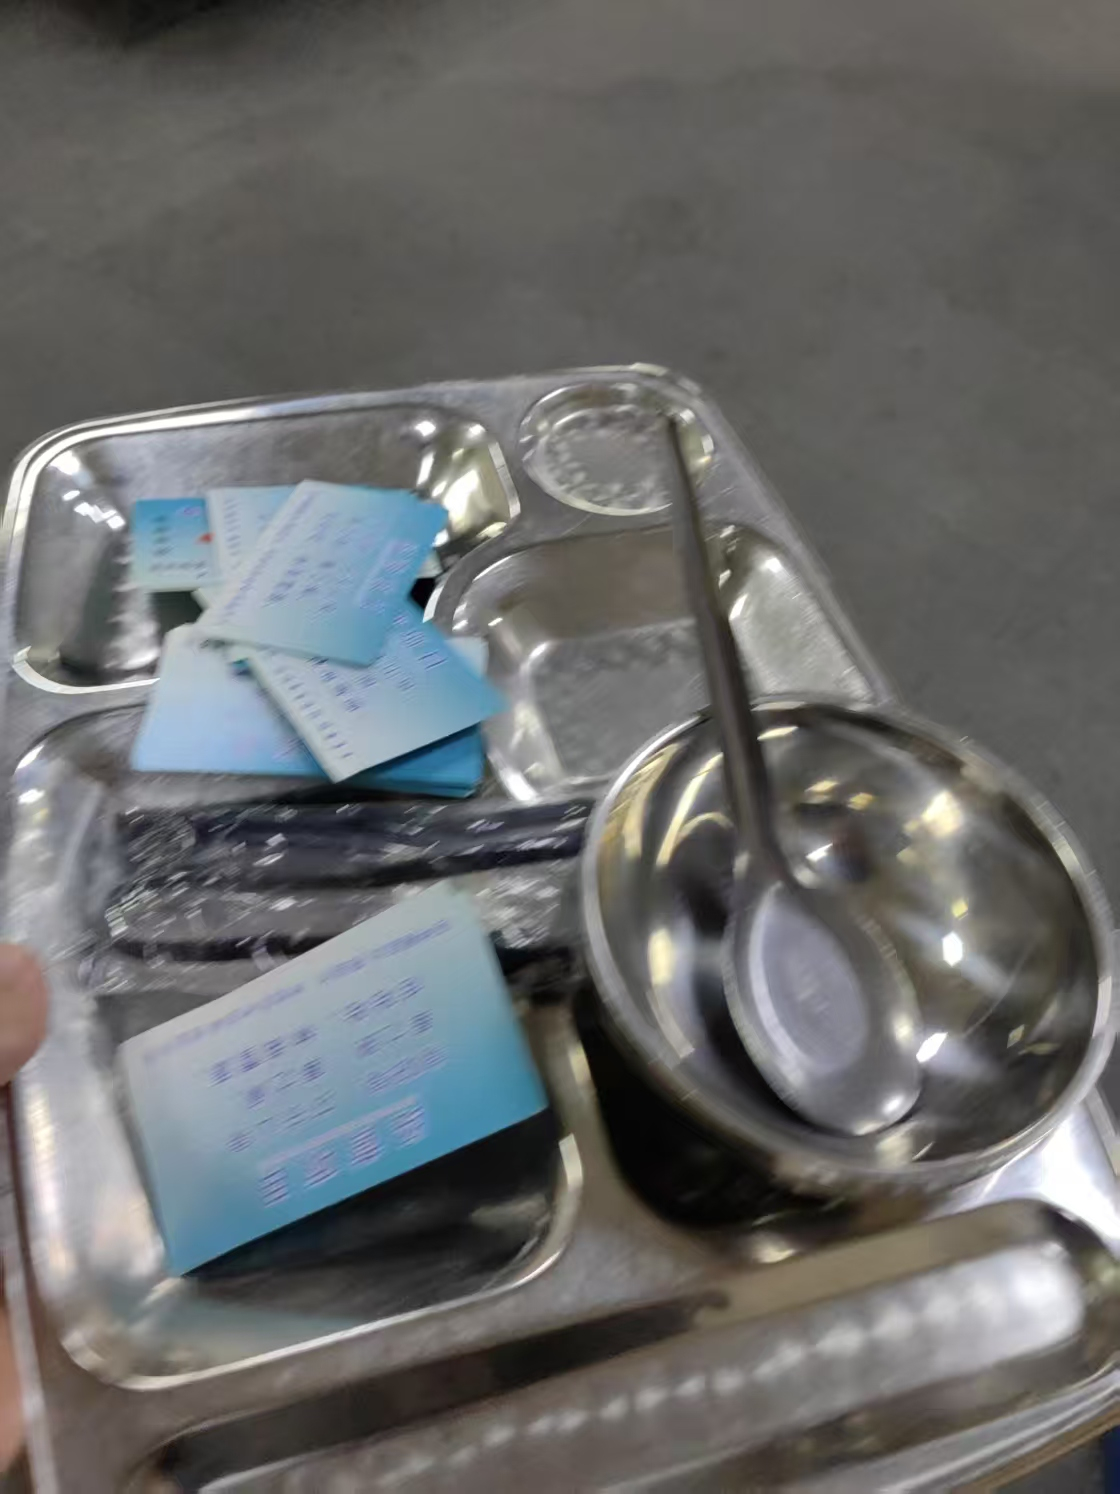moderate: (17, 474, 622, 1276)
plate: (4, 361, 1120, 1494)
